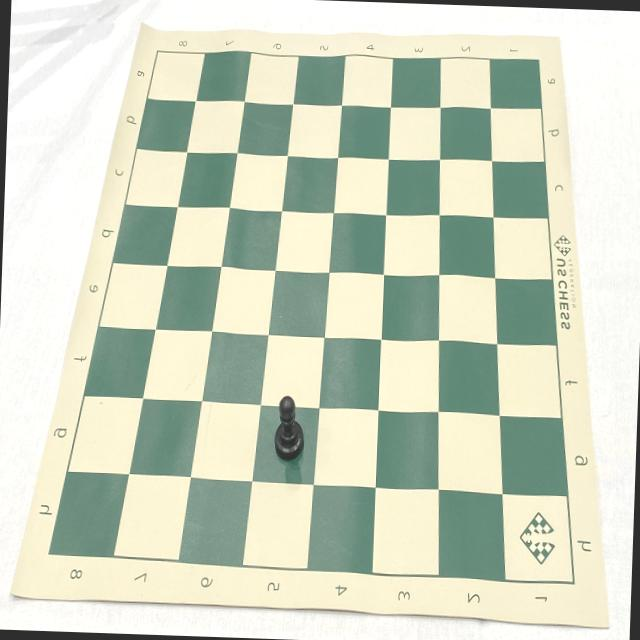black-pawn: (272, 394, 306, 461)
